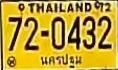0: (51, 16, 64, 49)
2: (24, 16, 37, 49), (98, 16, 110, 48)
3: (82, 15, 95, 48)
4: (67, 16, 80, 48)
7: (8, 16, 22, 50)
NPT: (39, 52, 82, 69)
